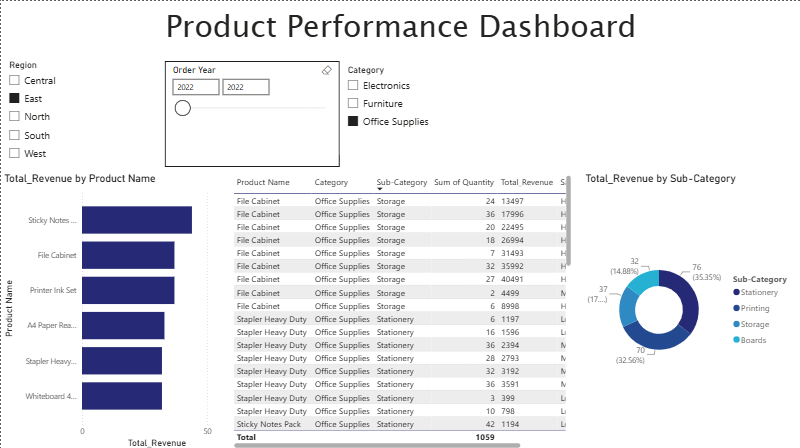

This screenshot's page, from the dashboard's own definition file:
{"tool":"powerbi","page":{"name":"Product_Performance","canvas":[1280,720],"ordinal":1},"visuals":[{"type":"clusteredBarChart","fields":{"Category":["Products (3).Product Name"],"Y":["CountNonNull(Orders (3).Total_Revenue)"]},"box":[0,273.3,381.7,446.7],"z":0},{"type":"donutChart","fields":{"Category":["Products (3).Sub-Category"],"Y":["CountNonNull(Orders (3).Total_Revenue)"]},"box":[930,273.3,350,421.7],"z":1000},{"type":"tableEx","fields":{"Values":["Products (3).Product Name","Products (3).Category","Products (3).Sub-Category","Sum(Orders (3).Quantity)","Orders (3).Total_Revenue","Orders (3).Sales Category"]},"box":[365,273.3,551.7,446.7],"z":2000},{"type":"slicer","fields":{"Values":["Orders (3).Order Year"]},"box":[261.7,96.7,280,170],"z":3000},{"type":"slicer","fields":{"Values":["Products (3).Category"]},"box":[541.7,96.7,280,150],"z":4000},{"type":"textbox","box":[0,0,1280,87.8],"z":5000},{"type":"slicer","fields":{"Values":["Orders (3).Region"]},"box":[0,88.3,261.7,185],"z":6000}]}

Visuals, with their boxes in screenshot pixels (x1, y1, x2, y2), scaled from the page's 1280x720 canvas onto the 800x448 screenshot:
clusteredBarChart - Products (3).Product Name x CountNonNull(Orders (3).Total_Revenue): bbox=[0, 170, 239, 447]
donutChart - Products (3).Sub-Category x CountNonNull(Orders (3).Total_Revenue): bbox=[581, 170, 799, 432]
tableEx - Products (3).Product Name x Products (3).Category: bbox=[228, 170, 573, 447]
slicer - Orders (3).Order Year: bbox=[164, 60, 339, 166]
slicer - Products (3).Category: bbox=[339, 60, 514, 154]
textbox: bbox=[0, 0, 799, 55]
slicer - Orders (3).Region: bbox=[0, 55, 164, 170]
